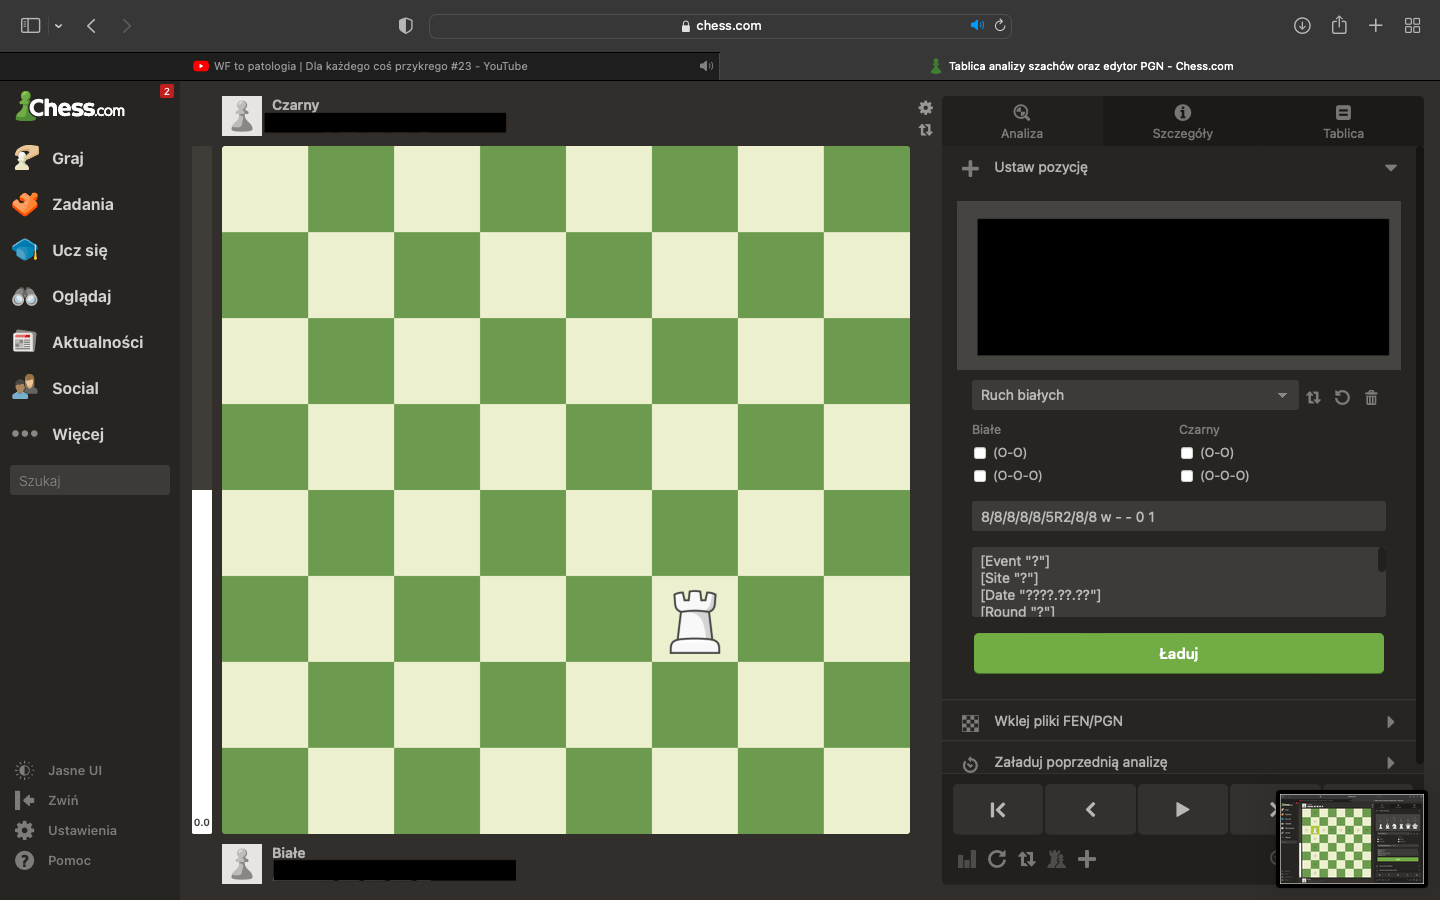white_rook: (668, 589, 721, 655)
